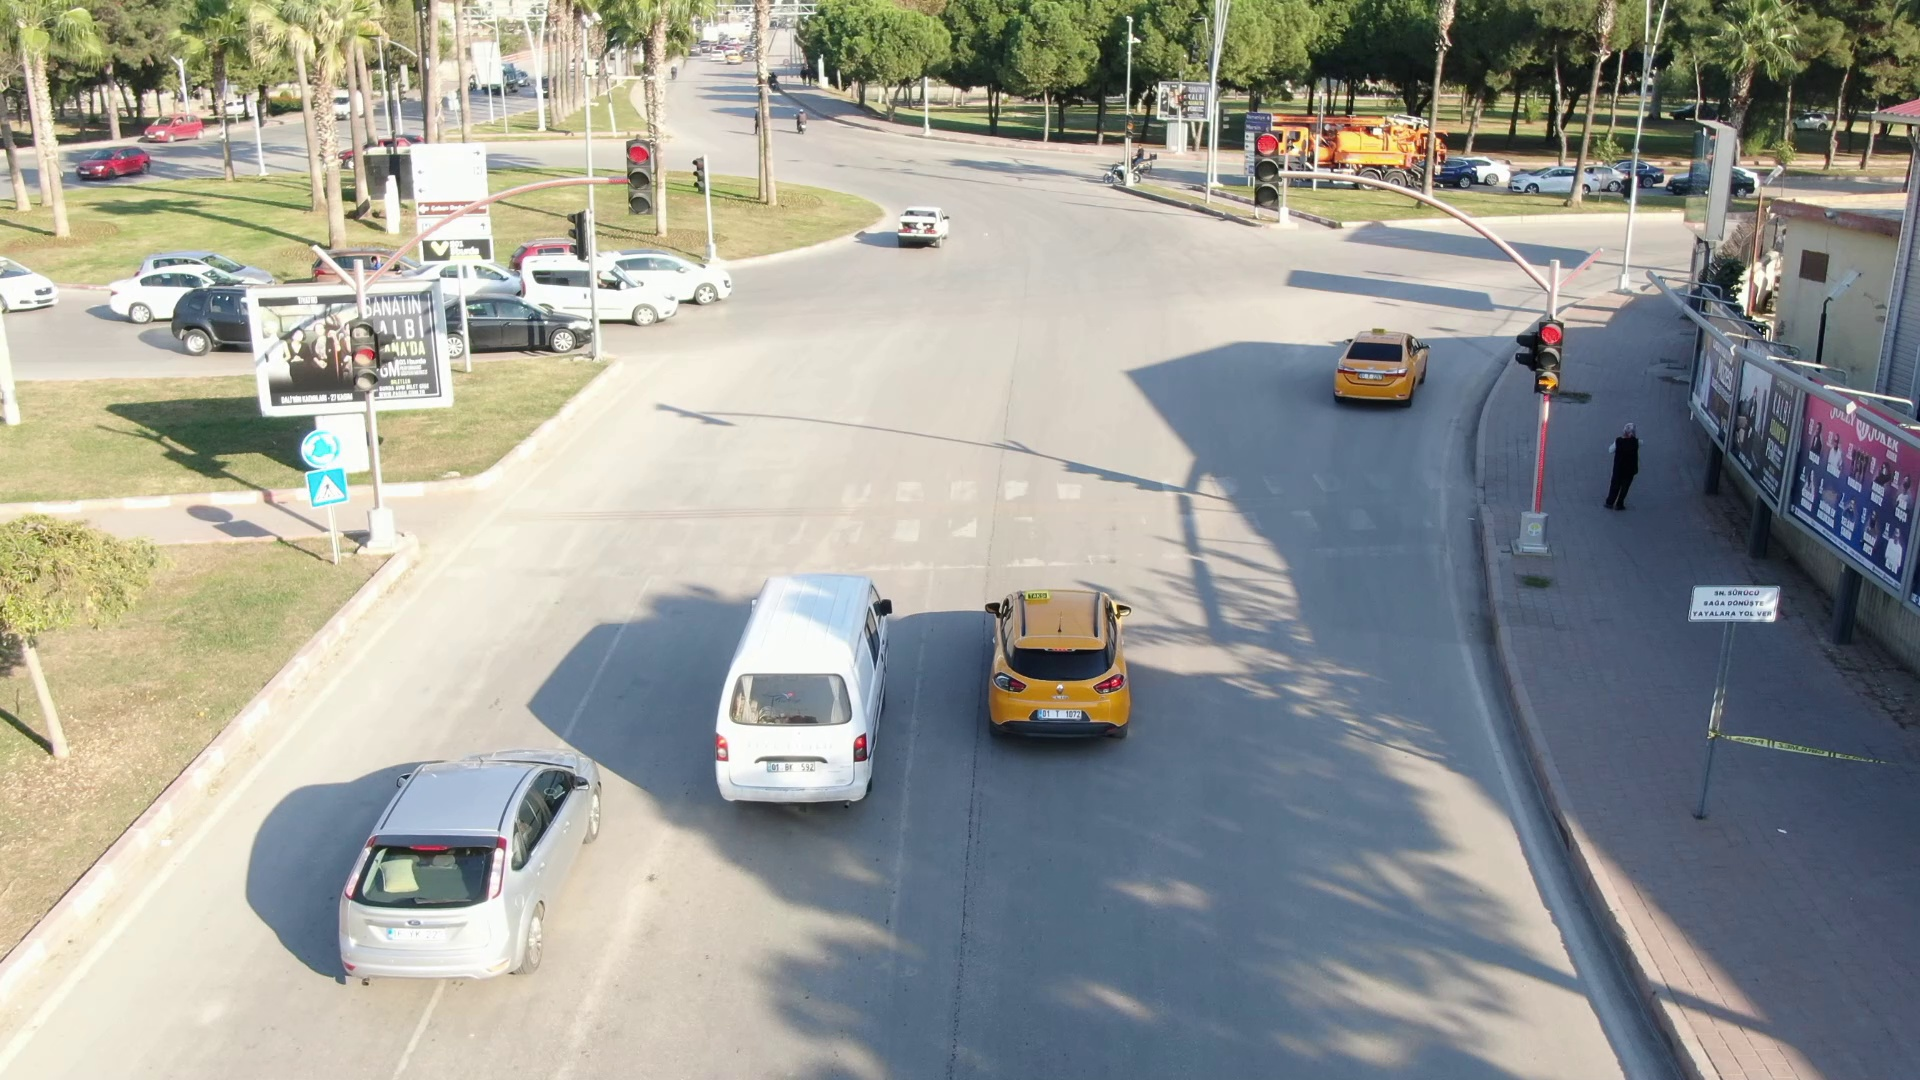car: (329, 755, 617, 970), (712, 565, 888, 817), (972, 592, 1153, 739), (517, 251, 684, 333), (447, 294, 598, 361), (1333, 319, 1431, 419), (104, 261, 278, 312), (168, 270, 255, 355), (70, 141, 149, 176), (898, 204, 943, 249)
person: (1604, 427, 1649, 515)
